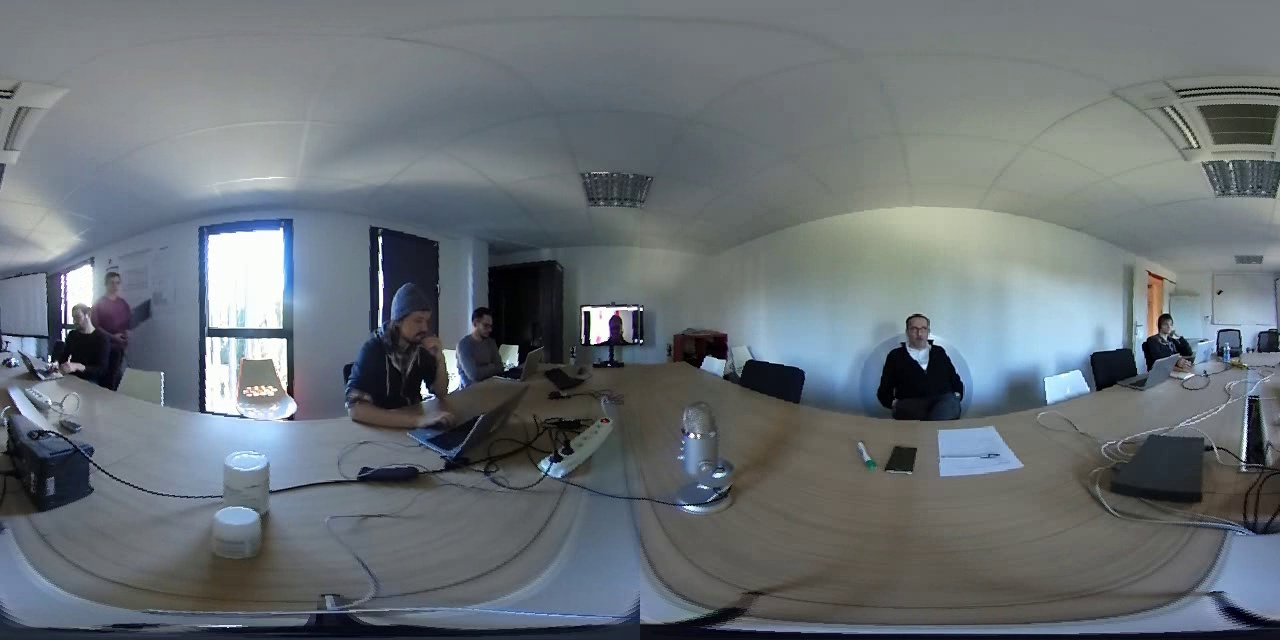person: (352, 273, 443, 431), (879, 301, 973, 415), (46, 294, 101, 386), (459, 283, 501, 391), (102, 265, 143, 374), (1146, 300, 1191, 356), (585, 306, 635, 343)
